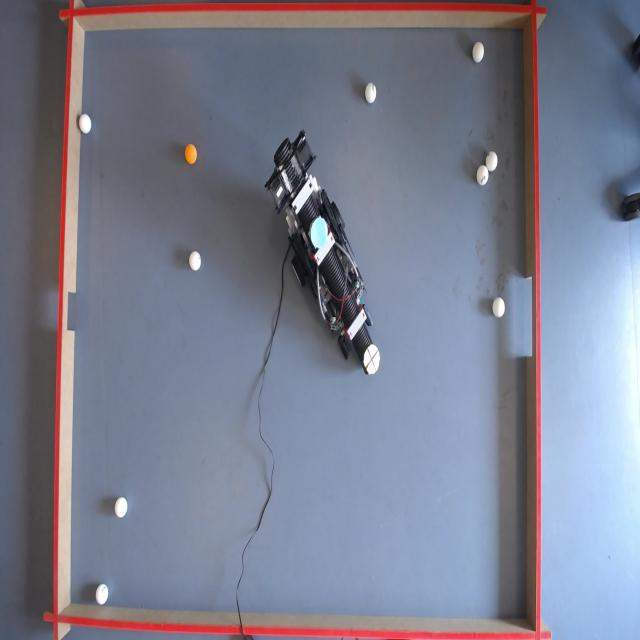orange: (185, 144, 198, 165)
robot: (267, 128, 385, 382)
robot-front: (363, 347, 381, 375)
robot-rear: (310, 217, 329, 250)
white: (96, 584, 111, 608), (114, 496, 128, 520), (476, 162, 489, 185), (364, 83, 377, 105), (79, 113, 92, 134), (493, 298, 506, 319), (471, 41, 484, 62), (485, 151, 498, 172), (188, 253, 201, 273)
